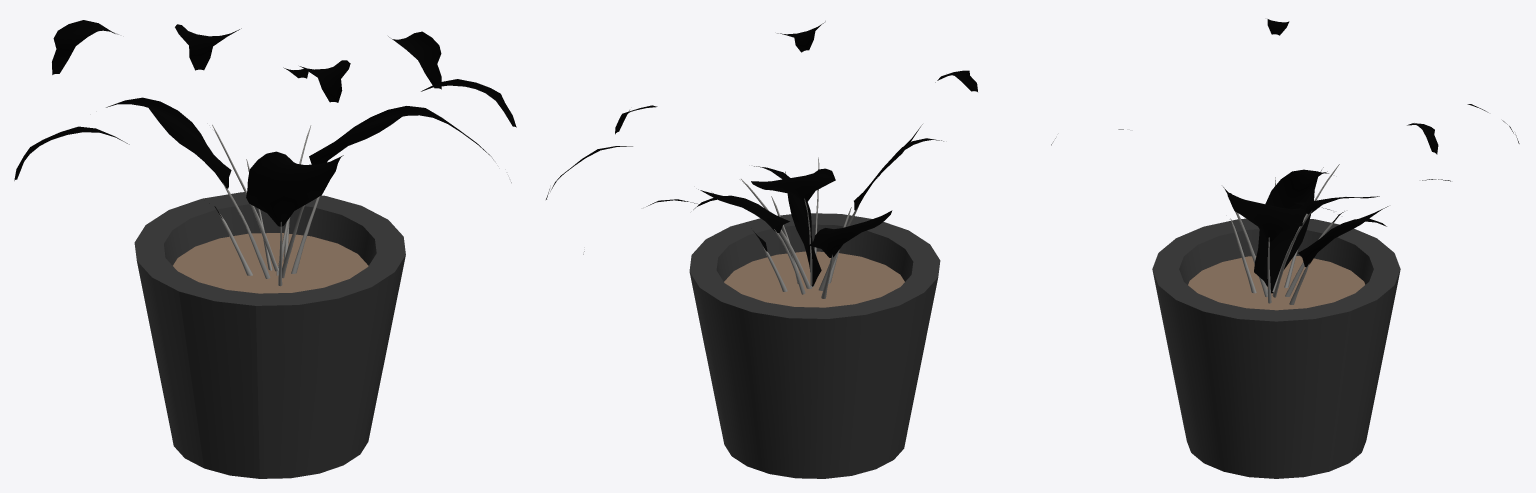
The model's file is Plant.fbx.
3 renders of one model, left to right at view 1: azimuth 30°, elevation 25°; view 2: azimuth 150°, elevation 25°; view 3: azimuth 270°, elevation 25°, orthographic. The views are drawn at different scales.
Parts seen in each view (by area): view 1: Pot1; view 2: Pot1; view 3: Pot1.
Boxes of the visible parts, x1,y1,x2,y2 form: Pot1: (14,20,516,478); Pot1: (546,21,977,478); Pot1: (1051,19,1519,478).
Bounding box in the file's own units: 3.83 × 3.12 × 3.79.
